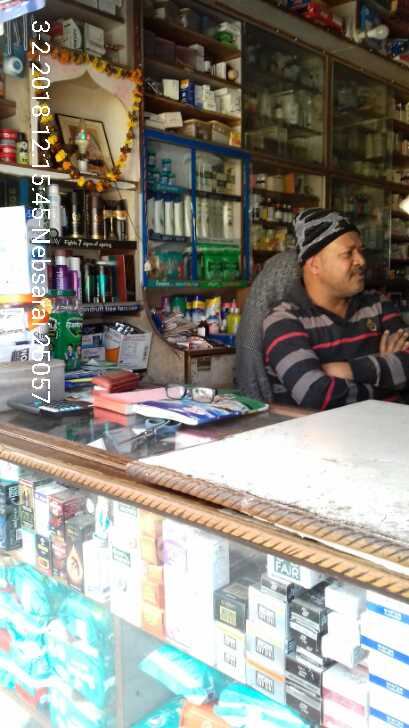vicks: (144, 147, 184, 187)
